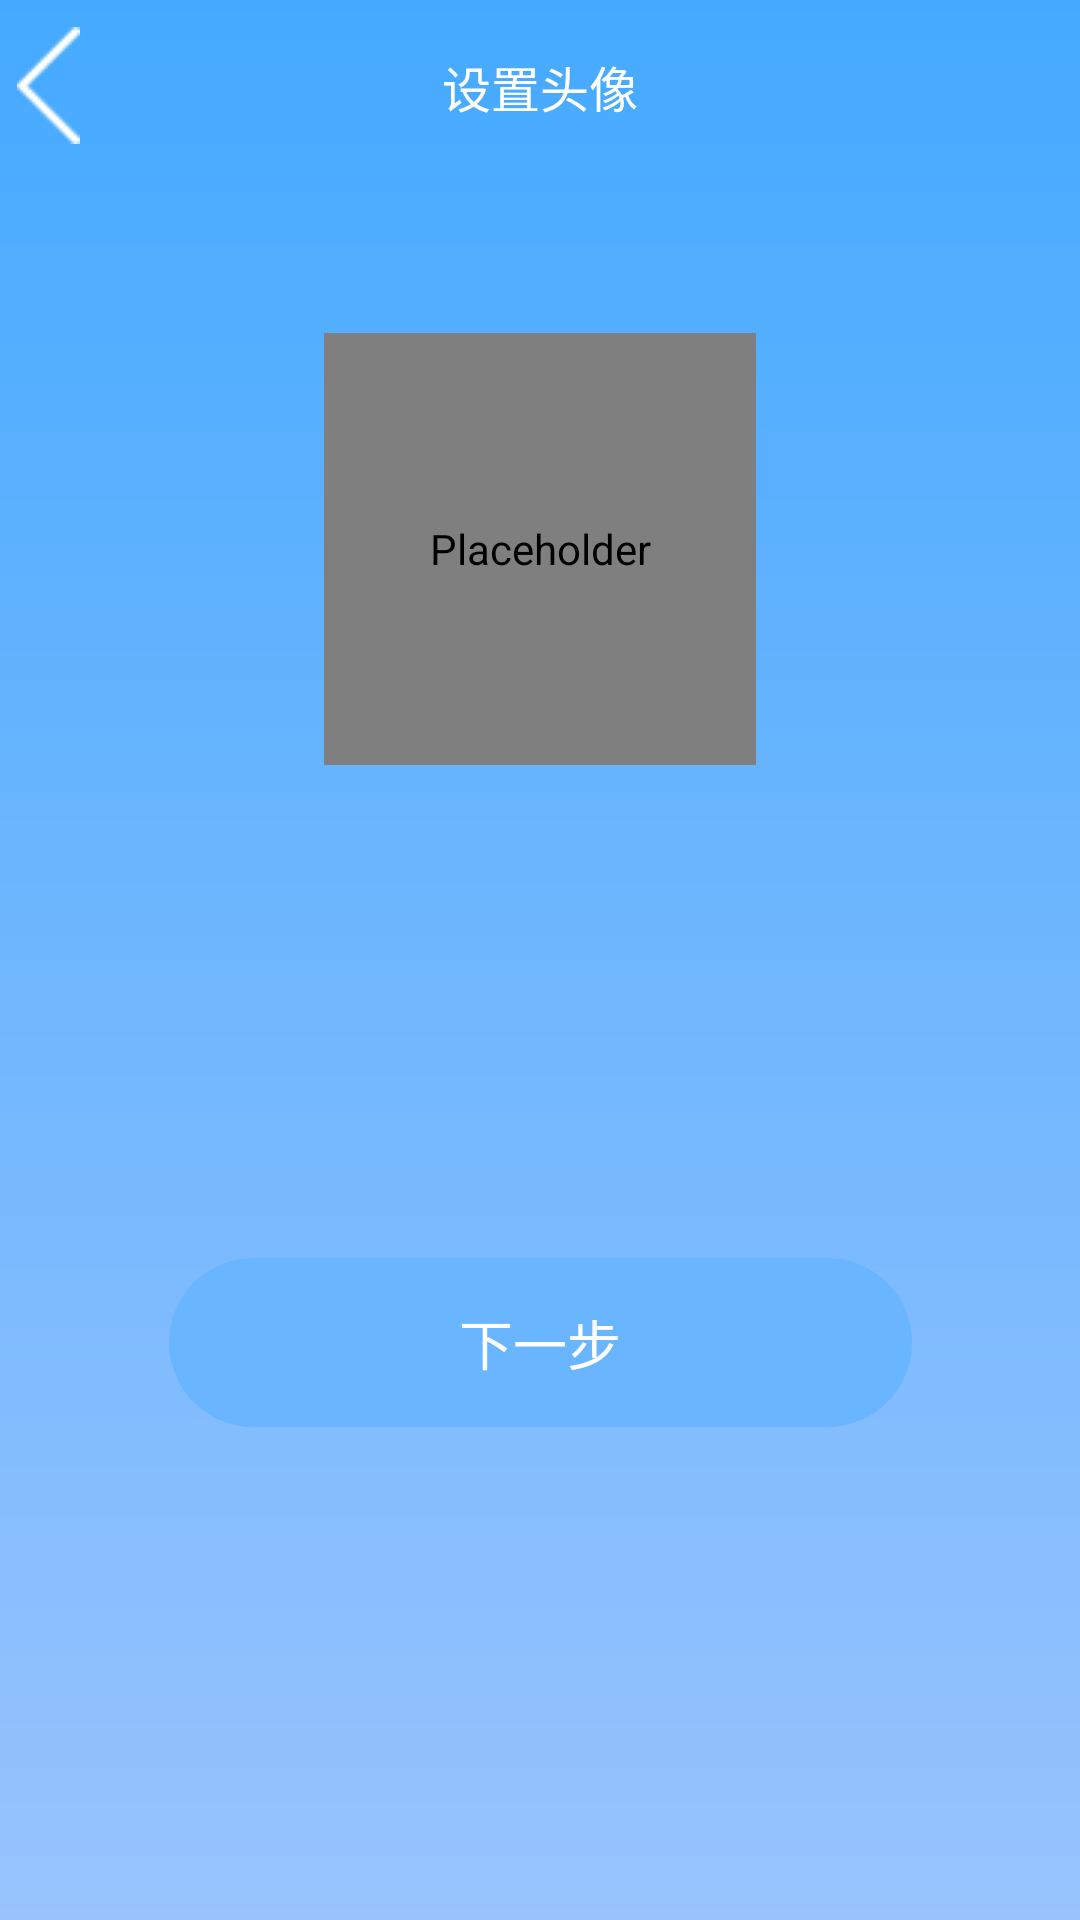

Named icons in this screenshot (1080×1920) and their bounding boxes, box=[x1, y1, x2, y2]:
back: box=[17, 27, 80, 144]
